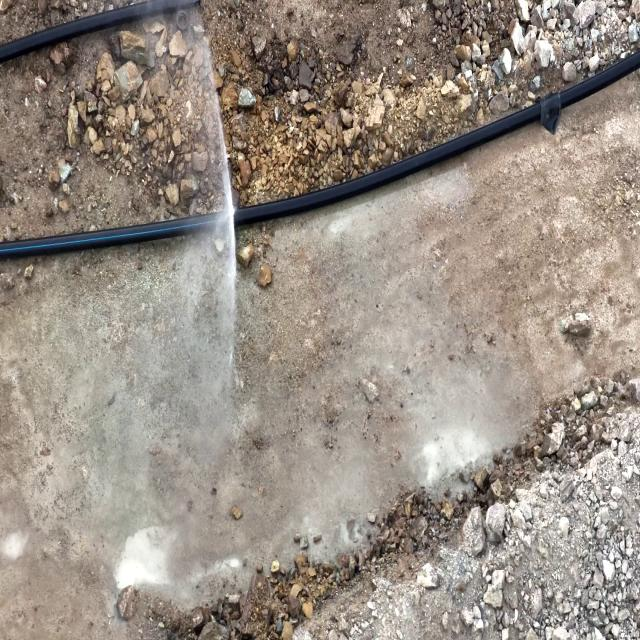leak: (204, 29, 239, 358)
